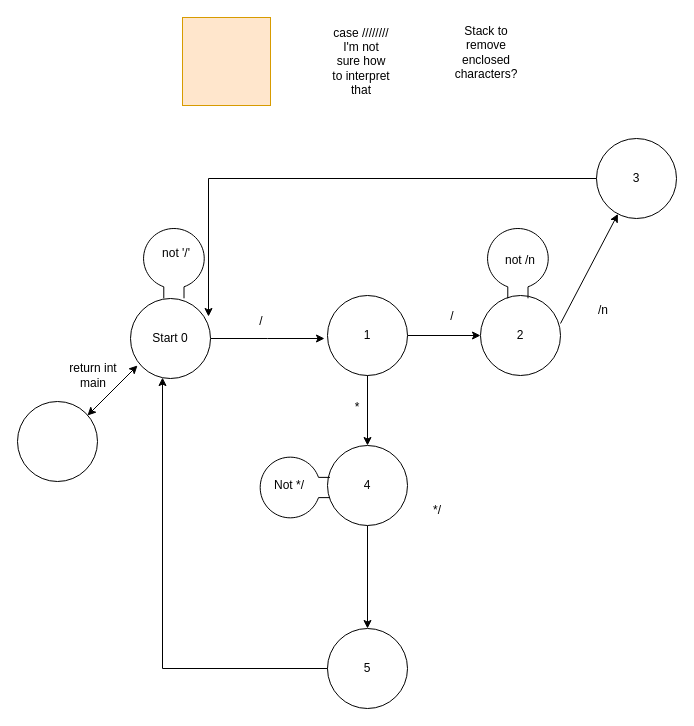
This 694x726 diagram has some shape labels left out. Each missing label, with the box of its shape:
Exit with return val: (16, 400, 98, 482)
Procedurally generated DFA: (182, 16, 270, 106)
